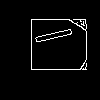I: (25, 25, 73, 49)
